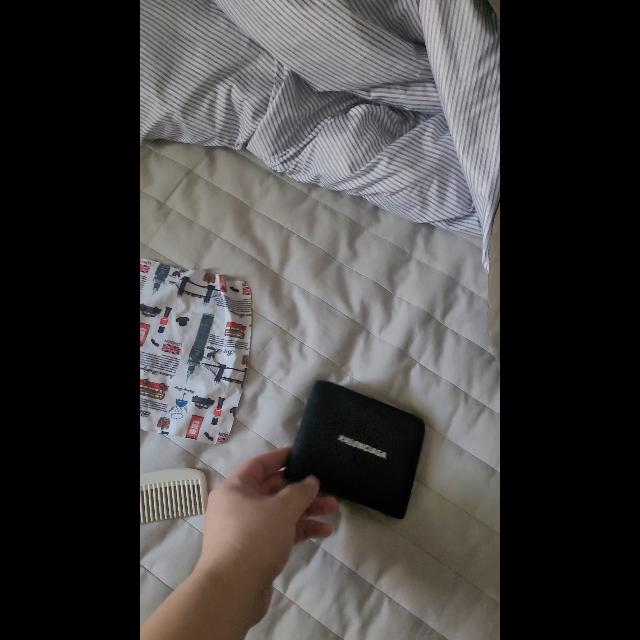COMB: (140, 468, 208, 524)
Glasses cleaning cloth: (140, 256, 252, 444)
WALLET: (286, 379, 426, 519)
